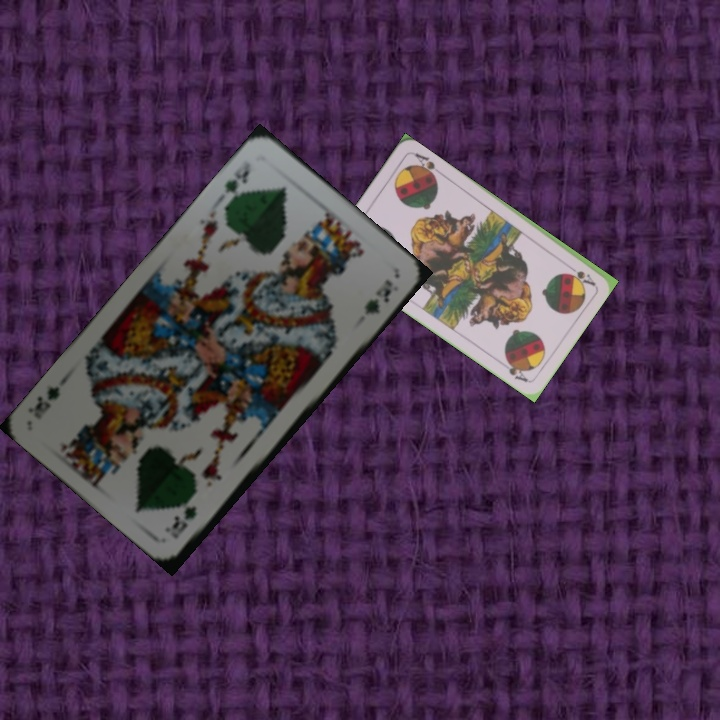GK: (220, 156, 254, 207), (164, 502, 200, 542)
SA: (561, 259, 597, 288)
